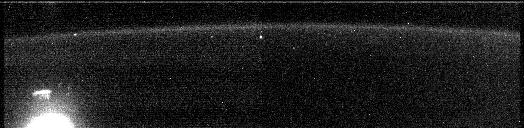positive: (29, 87, 53, 105)
